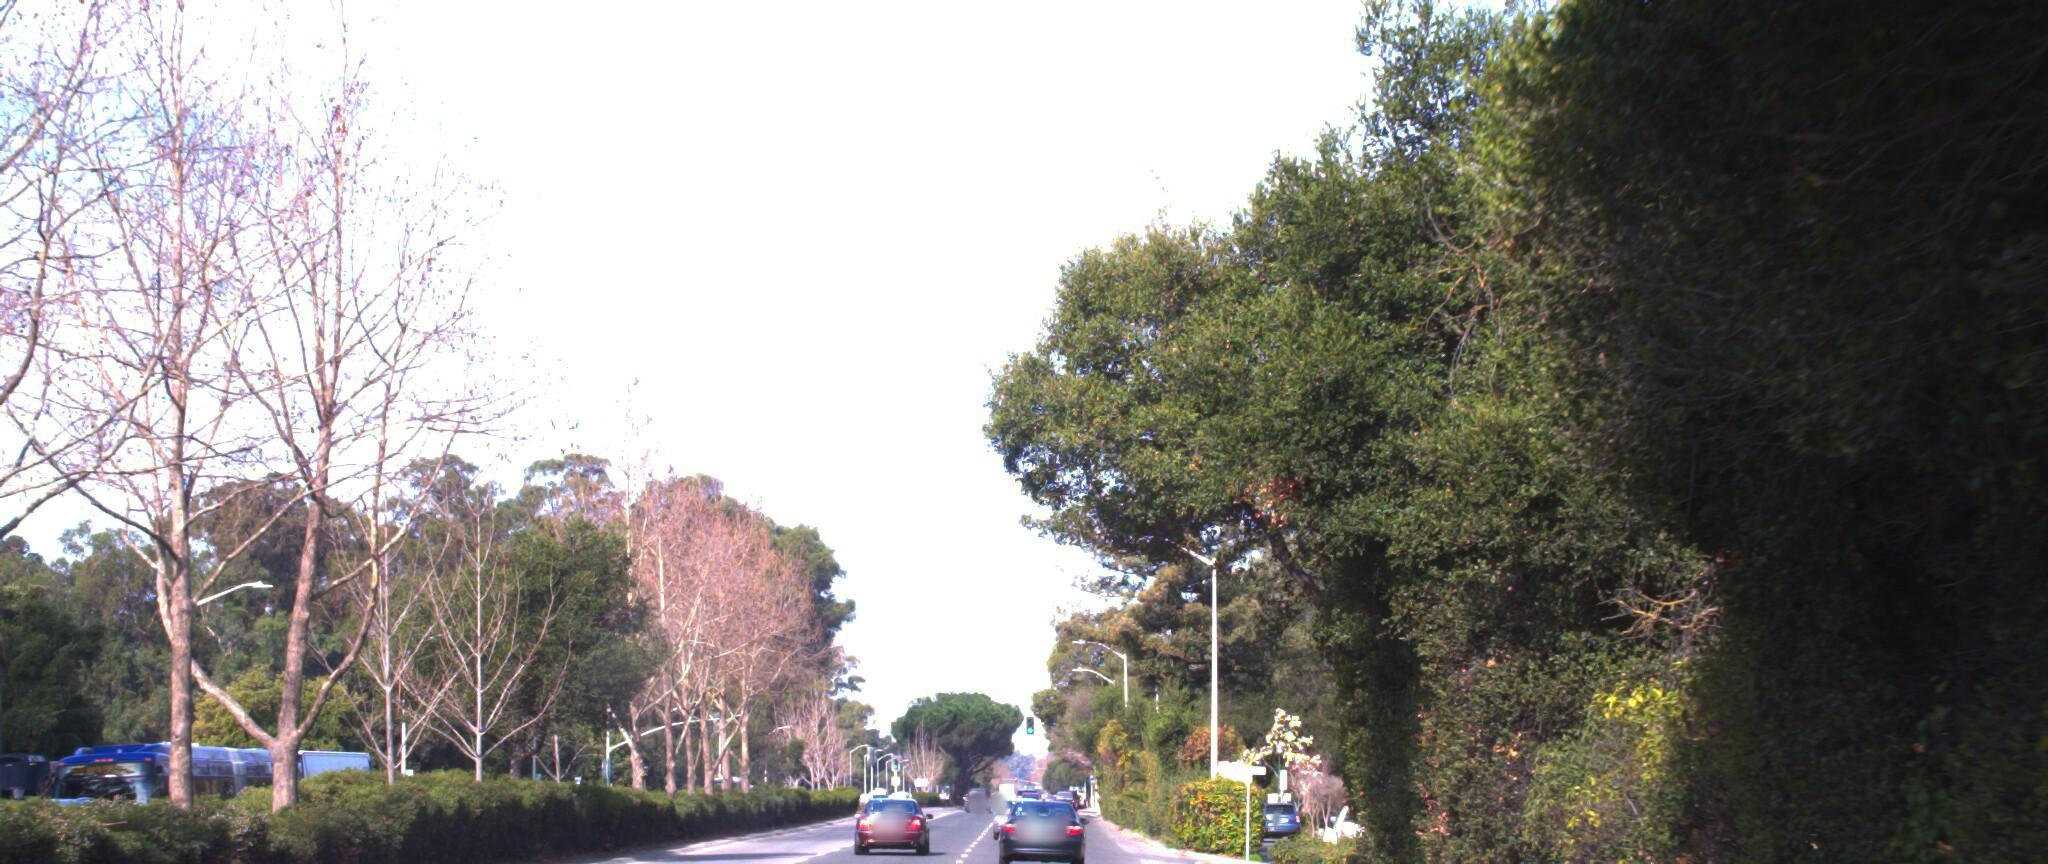bus: (42, 703, 315, 841)
car: (994, 775, 1080, 850), (856, 778, 931, 839)
